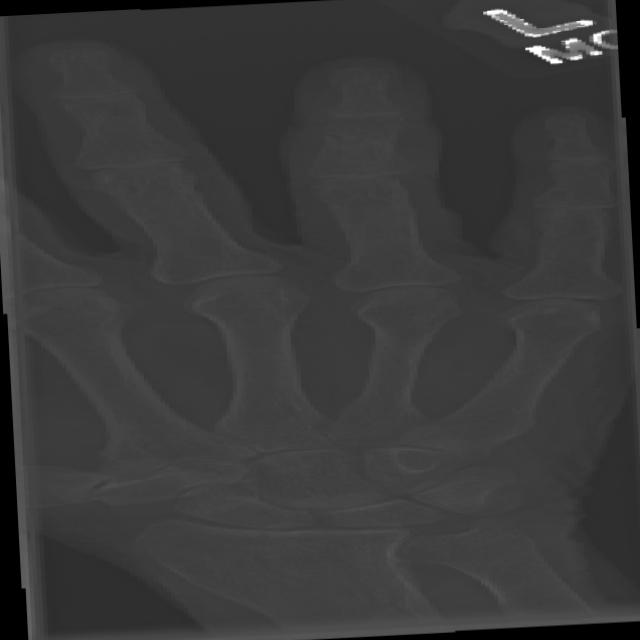fingers positive: (290, 122, 432, 158)
